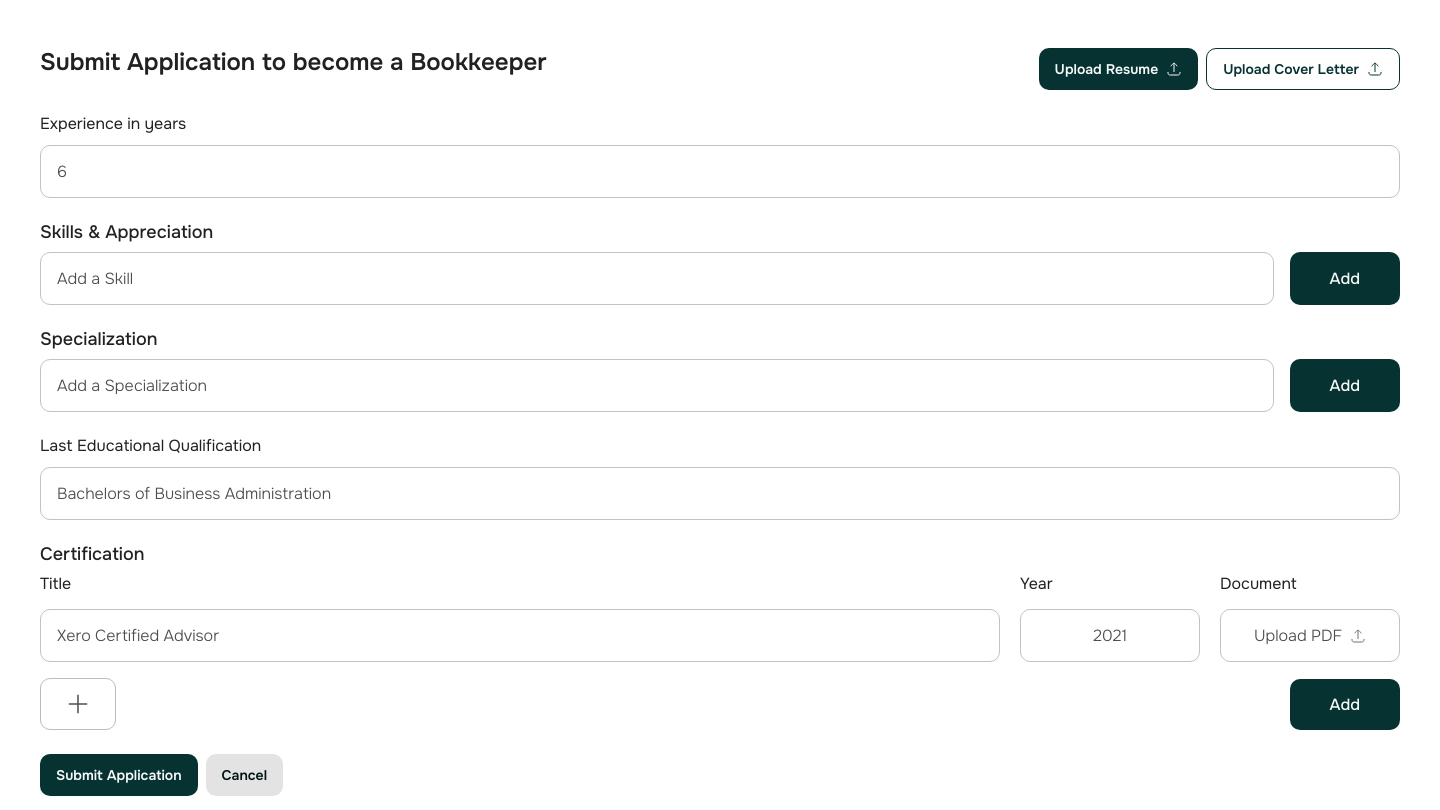
Test: blocks submission until required fields are provided
Click the button "Submit Application". click: point(119, 775)
box: [40, 754, 198, 796]
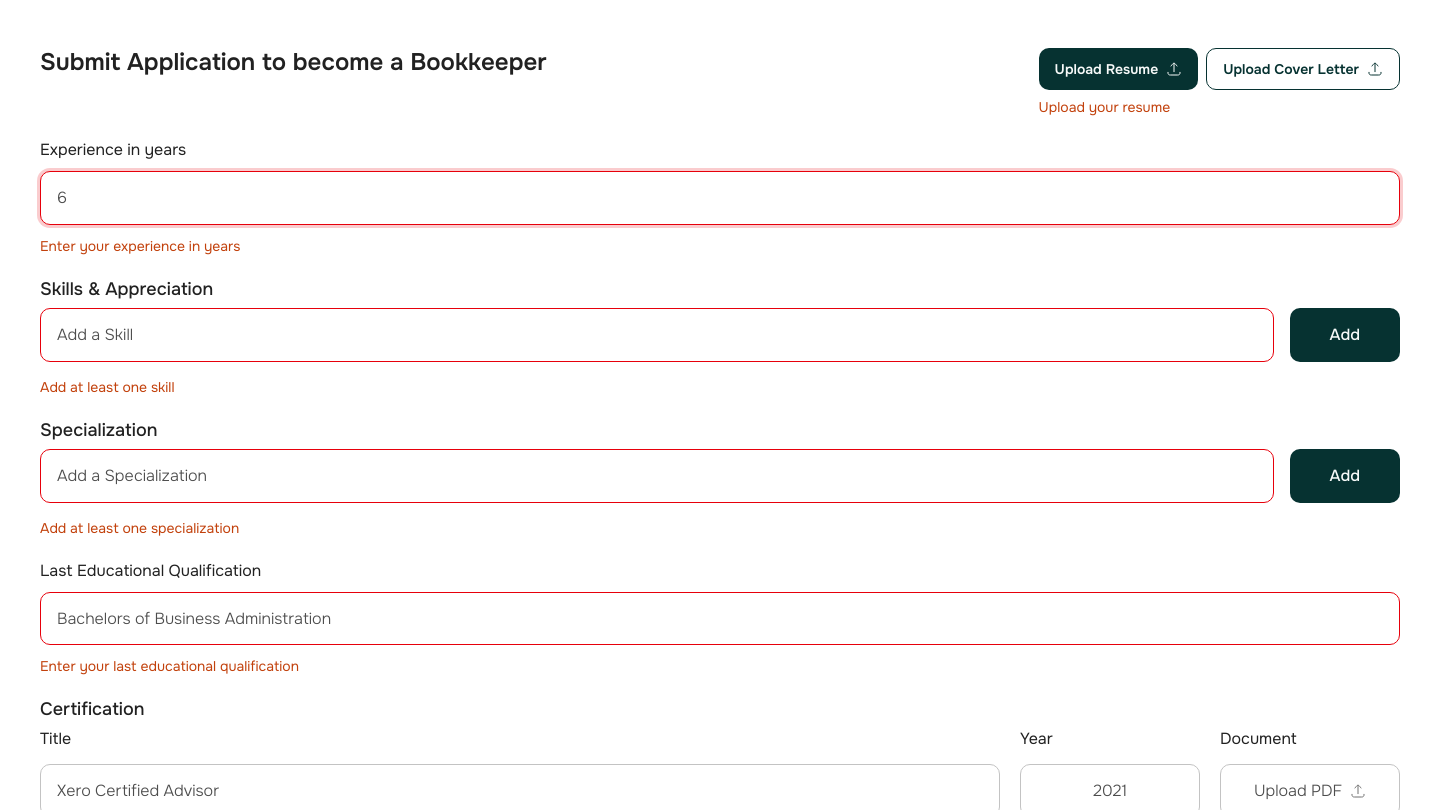
Now the text "Upload your resume" is shown, box [1039, 98, 1170, 116]
Now the text "Enter your experience in years" is shown, box [40, 237, 240, 255]
Now the text "Add at least one skill" is shown, box [40, 378, 174, 396]
